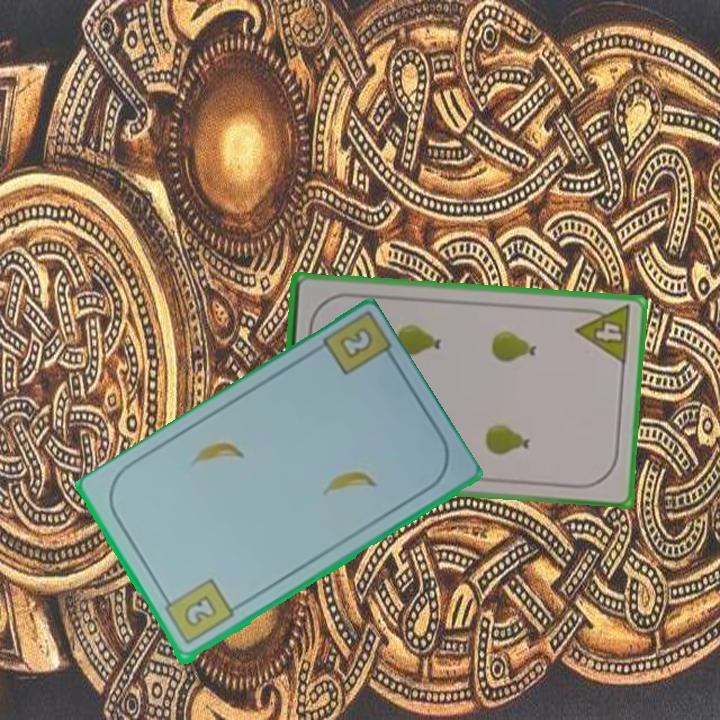2b: (159, 575, 237, 649), (335, 324, 376, 363)
4p: (573, 302, 634, 367)
